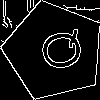Q: (29, 26, 87, 76)
